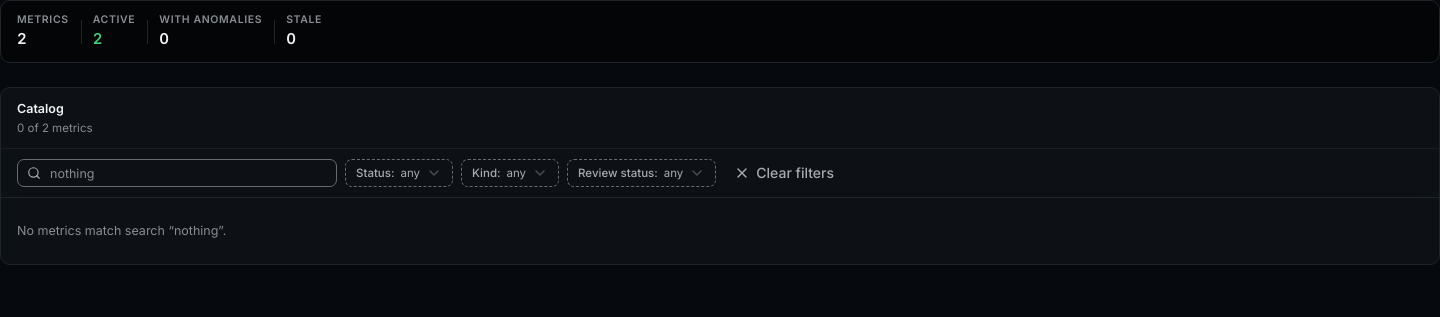
Test: MetricsCatalog — an empty filter result has a way out (MET-25) › names the active filters and clears them in one click
The width and height of the screenshot is (1440, 317).
Expected: the text "No metrics match search “nothing”." is shown, [17,222,226,240]
Click the button "Clear filters".
click(784, 173)  # box [724,157,844,189]
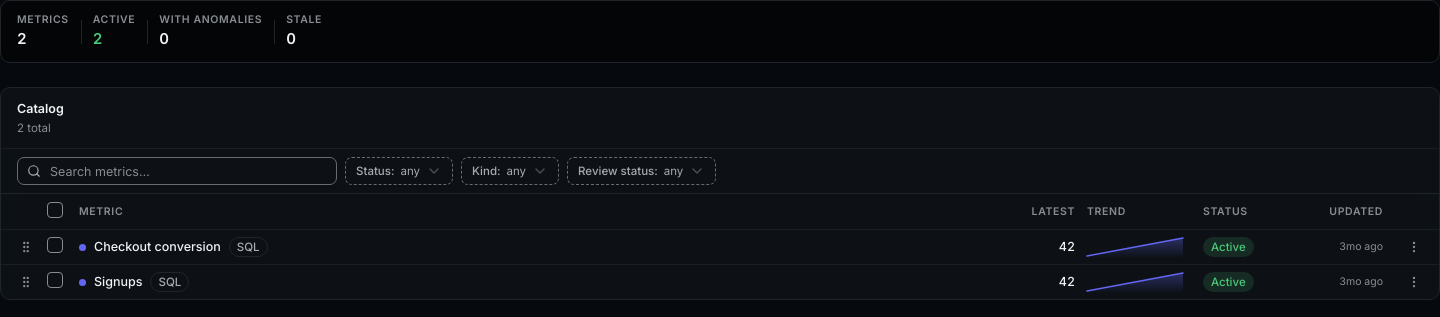
Expected: the link "Signups" is shown, [94,273,142,291]
Expected: the search field labelled "Search metrics" is empty, [17,157,337,185]
